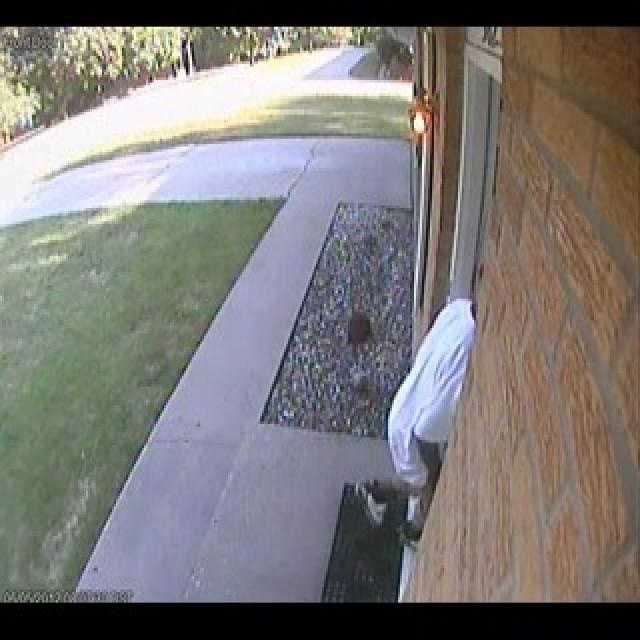burglary: (389, 271, 492, 540)
